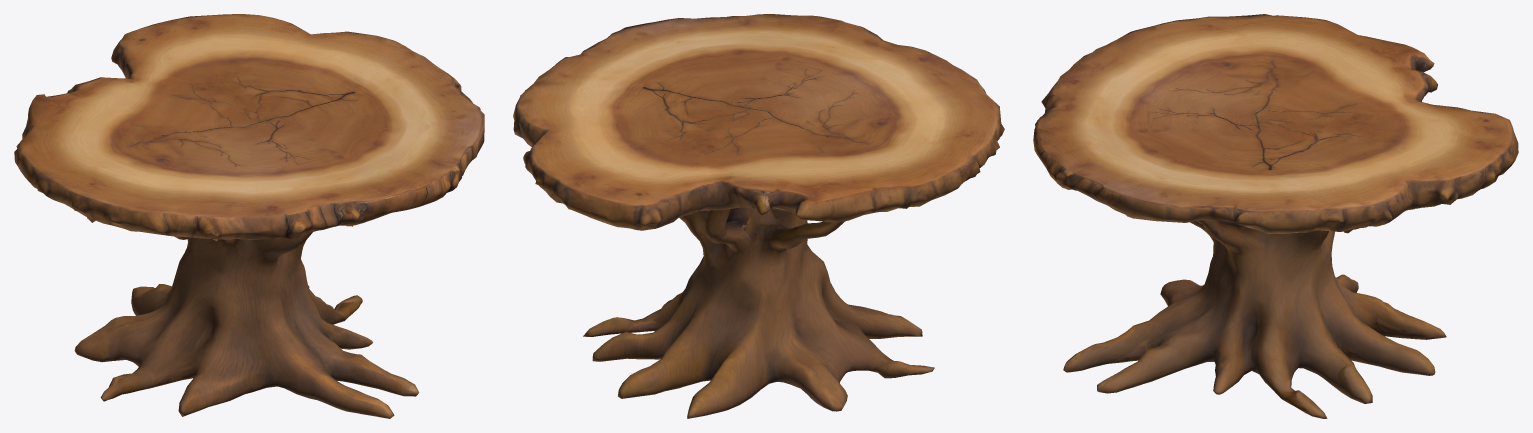
Rendered from Meshy_AI_TREE_TABLE_0301170655_texture.glb.
3 views of the same model, side by side, from view 1: azimuth 30°, elevation 25°; view 2: azimuth 150°, elevation 25°; view 3: azimuth 270°, elevation 25° (orthographic).
Bounding box in the file's own units: 1.97 × 1.07 × 1.99.
1 material, 1 textured.
